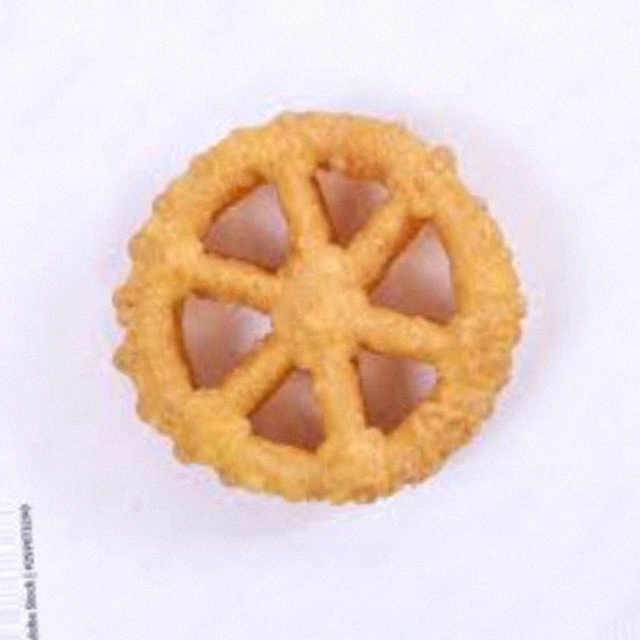Kokis: (122, 112, 518, 528)
